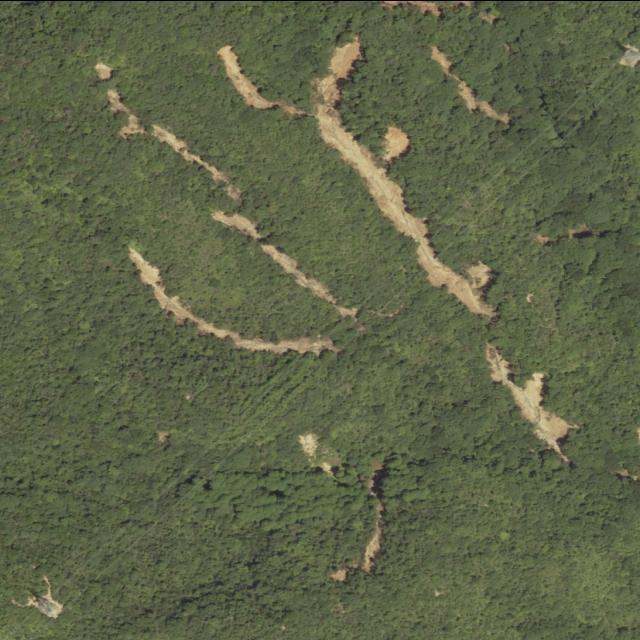landslide: (218, 37, 496, 318), (129, 248, 338, 354), (212, 209, 358, 317), (108, 87, 241, 199), (487, 343, 579, 461)
